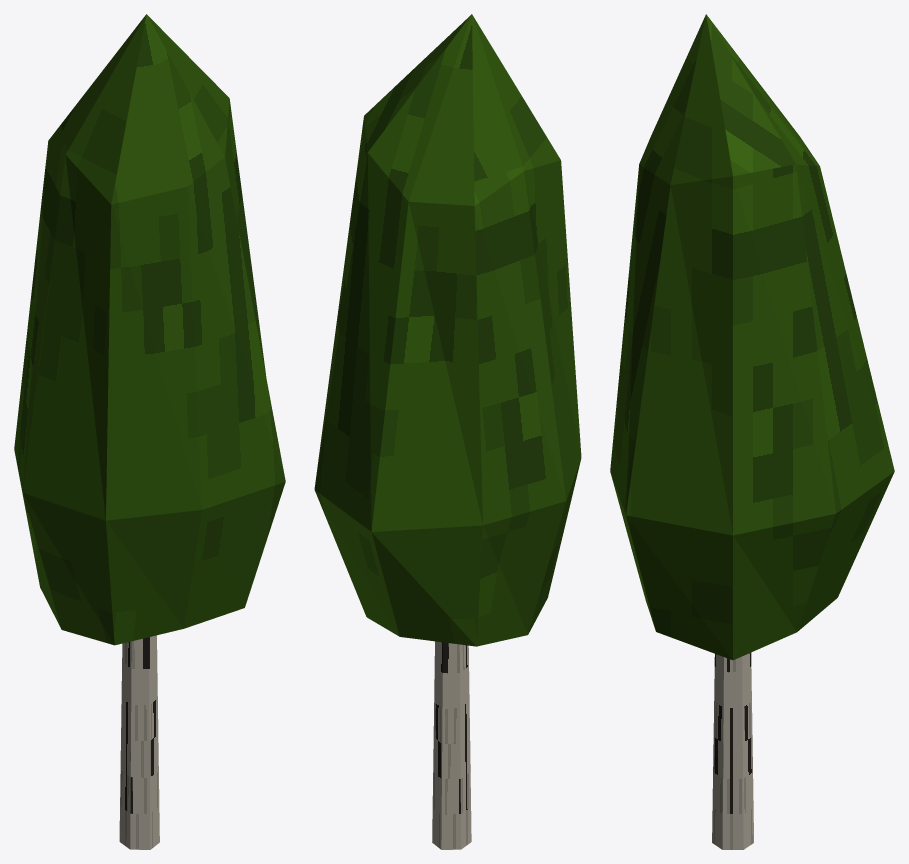
The model's file is abedul.glb.
3 renders of one model, left to right at view 1: azimuth 30°, elevation 25°; view 2: azimuth 150°, elevation 25°; view 3: azimuth 270°, elevation 25°, orthographic. The views are drawn at different scales.
Parts seen in each view (by area): view 1: copa, tronco; view 2: copa, tronco; view 3: copa, tronco.
Boxes of the visible parts, box(x1,y1,x2,y2) form: copa: box(14, 14, 285, 645); tronco: box(119, 635, 159, 849); copa: box(314, 14, 581, 646); tronco: box(432, 641, 471, 849); copa: box(610, 14, 894, 660); tronco: box(712, 652, 753, 849).
Size of the model in its own units: 2.5 by 8 by 2.5.
1 material, 1 textured.
